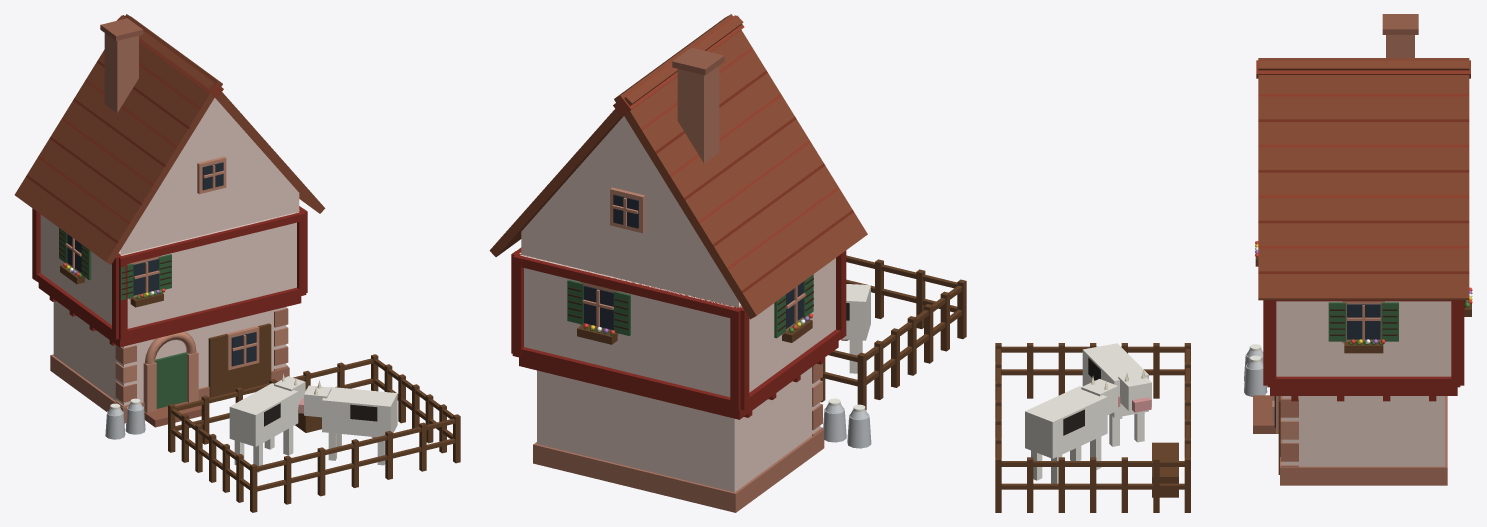
Rendered from kuhstall.glb.
The picture shows the model from 3 angles, left to right: view 1: azimuth 30°, elevation 25°; view 2: azimuth 150°, elevation 25°; view 3: azimuth 270°, elevation 25°; orthographic projection. The views are drawn at different scales.
Bounding box in the file's own units: 3.56 × 4.89 × 5.29.
